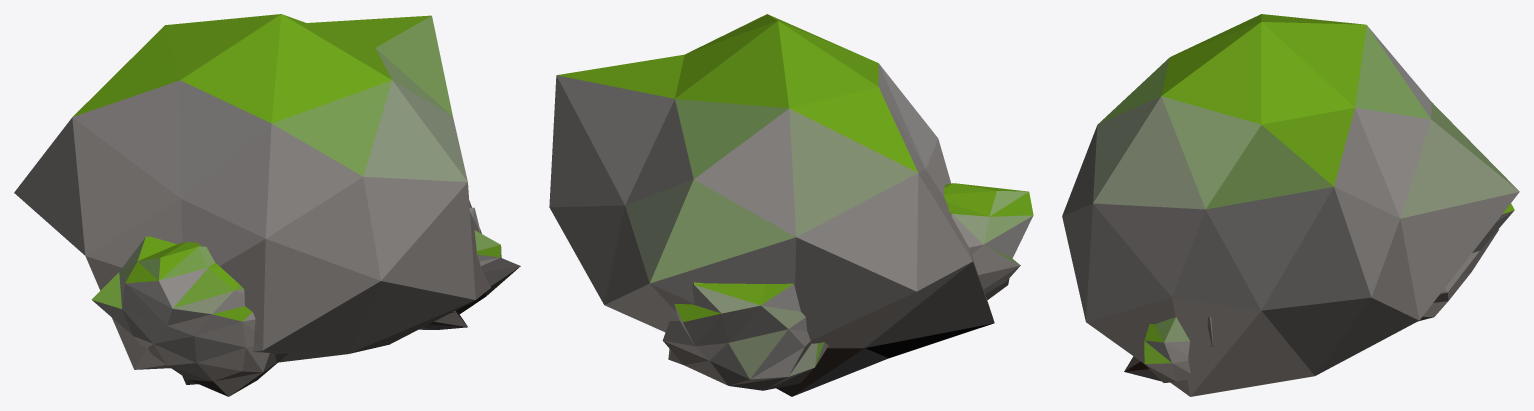
Rendered from batu_boulder_limestone_563327.glb.
The picture shows the model from 3 angles, left to right: view 1: azimuth 30°, elevation 25°; view 2: azimuth 150°, elevation 25°; view 3: azimuth 270°, elevation 25°; orthographic projection.
Visible parts, largest first — view 1: Batu_Jeram_Sungai; view 2: Batu_Jeram_Sungai; view 3: Batu_Jeram_Sungai.
Boxes of the visible parts, x1,y1,x2,y2 form: Batu_Jeram_Sungai: [14, 14, 520, 396]; Batu_Jeram_Sungai: [549, 14, 1033, 396]; Batu_Jeram_Sungai: [1062, 14, 1519, 396].
Size of the model in its own units: 6.03 by 4.61 by 5.92.
